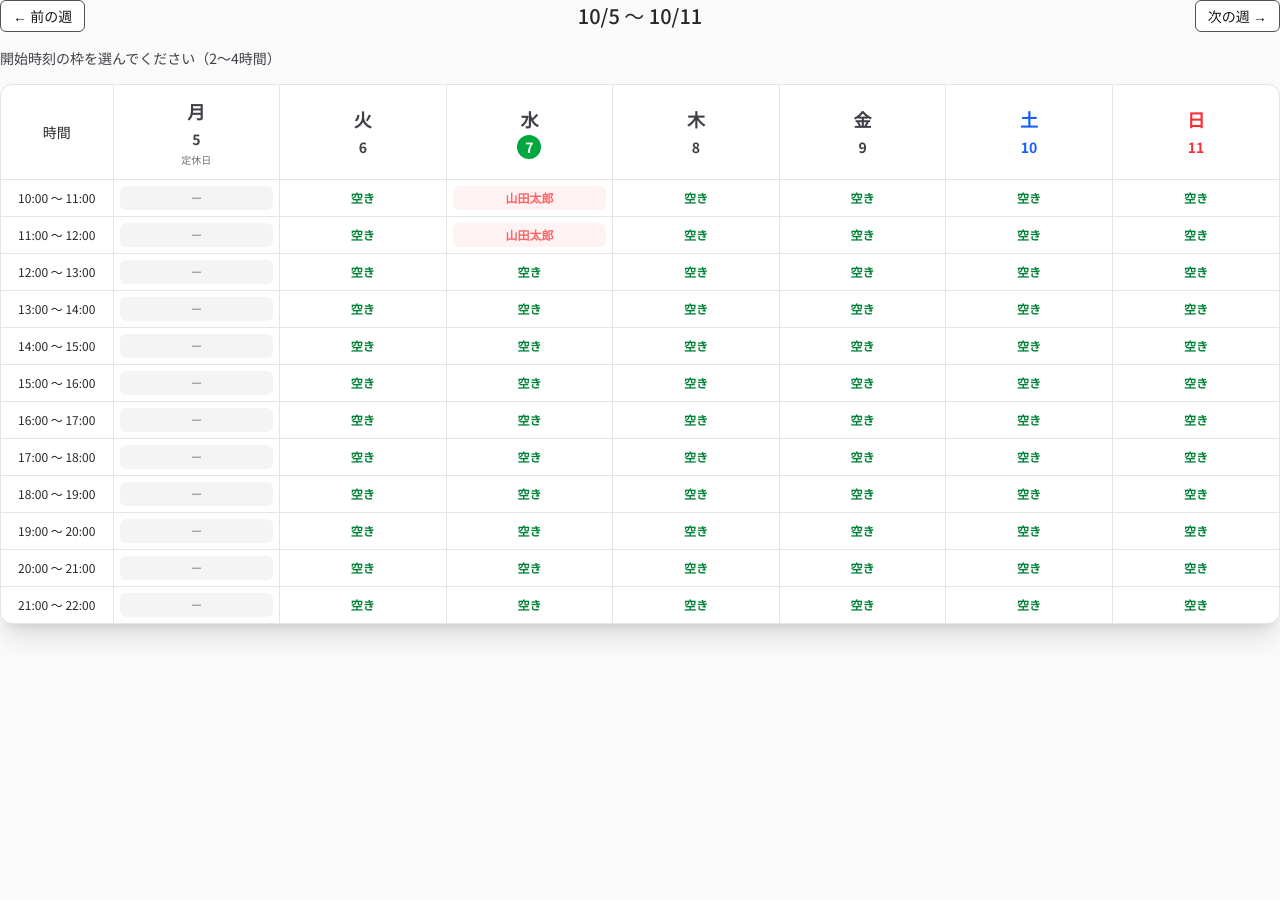
it: 予約の詳細 › 電話予約には注意書きを出さない
Expected: the button with aria-label "10月7日（水） 10:00 〜 11:00 山田太郎 さんの予約" is shown, [453,186,606,210]
Click the button "次の週 →".
click(1237, 16)  # box [1195,0,1279,32]
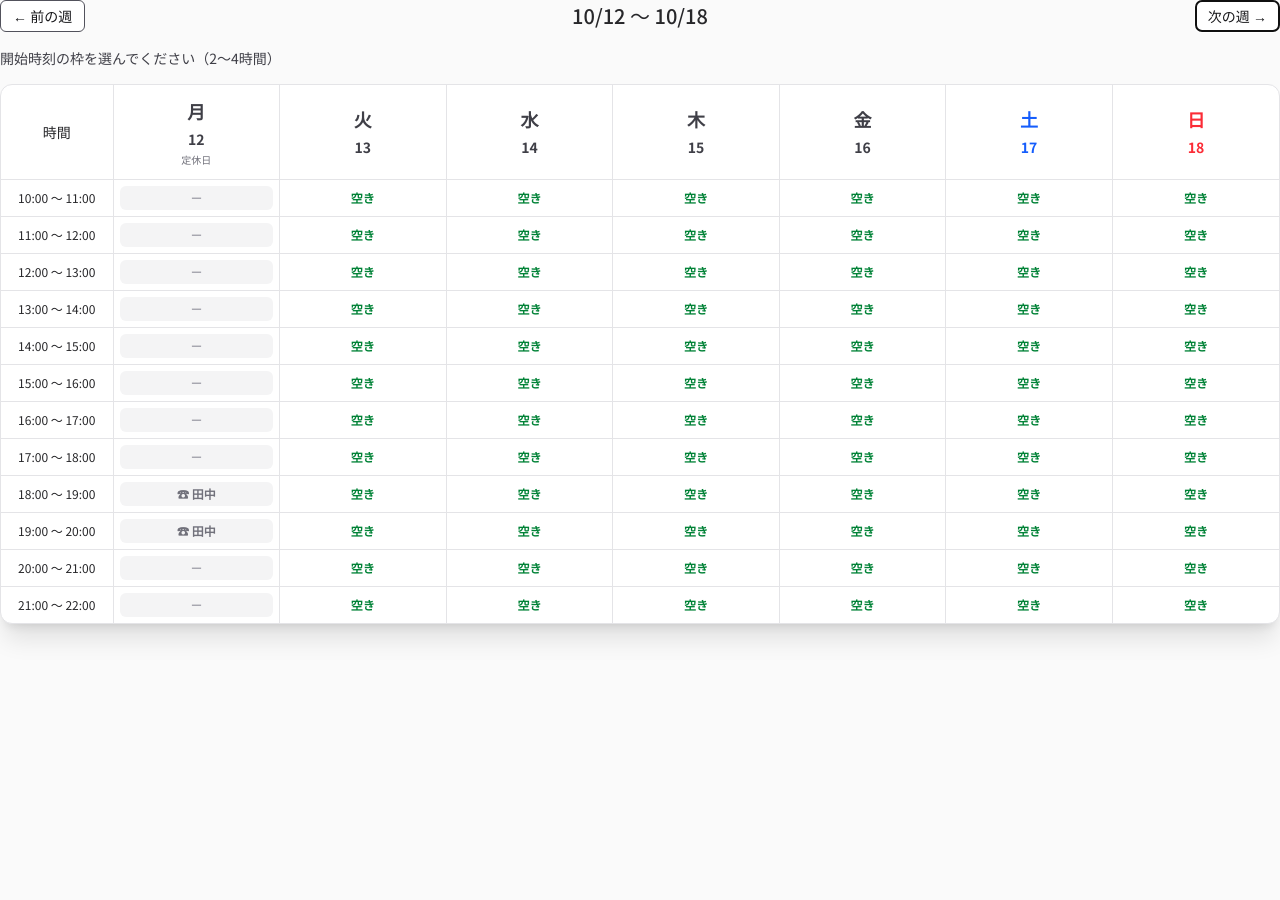
Click the button with aria-label "10月12日（月） 18:00 〜 19:00 田中 さんの予約（電話）".
click(196, 494)  # box [120,482,273,506]
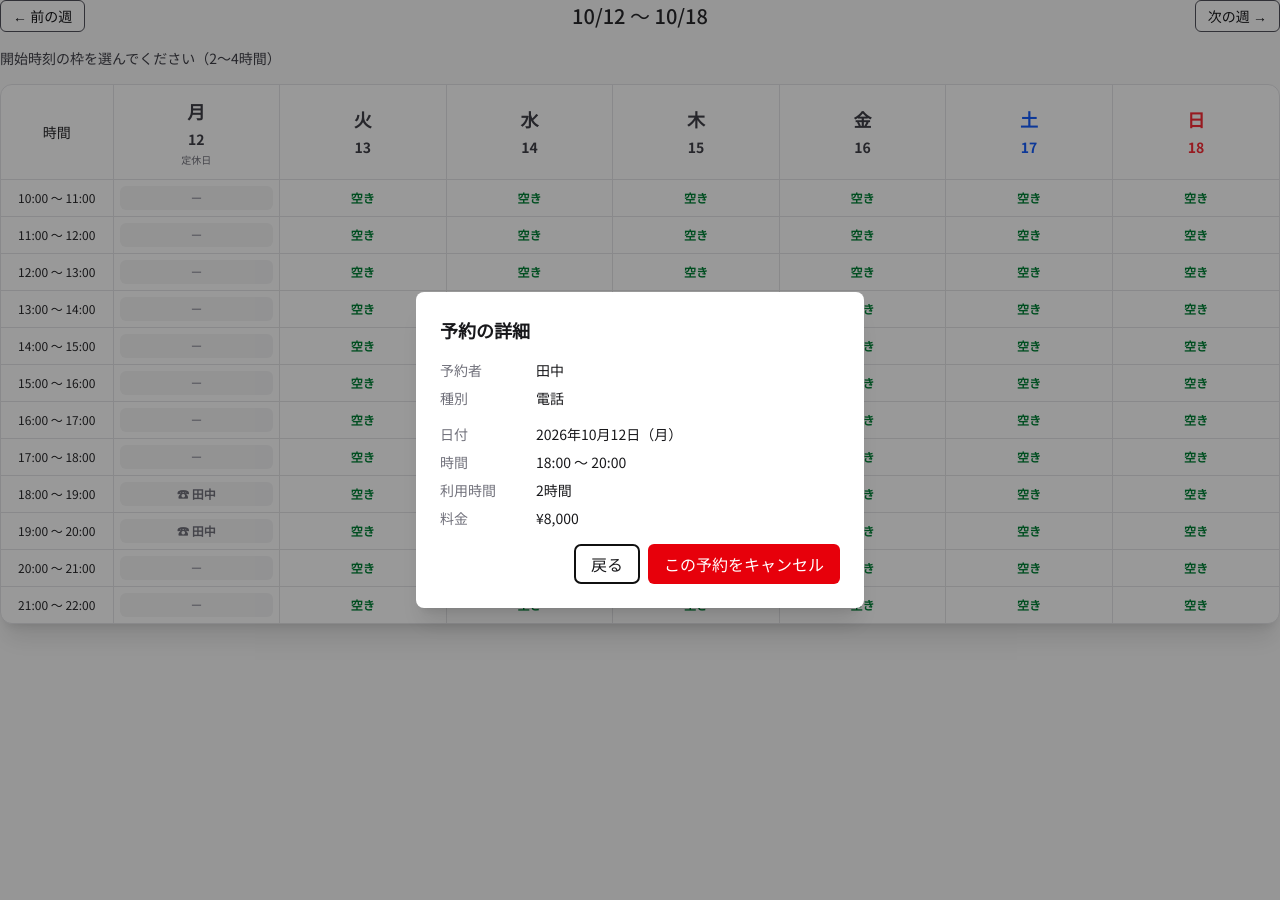
Expected: the dialog "予約の詳細" does not show "メールが送られます", [416,292,864,608]
Now the dialog "予約の詳細" shows "電話", box [536,388,564,408]
